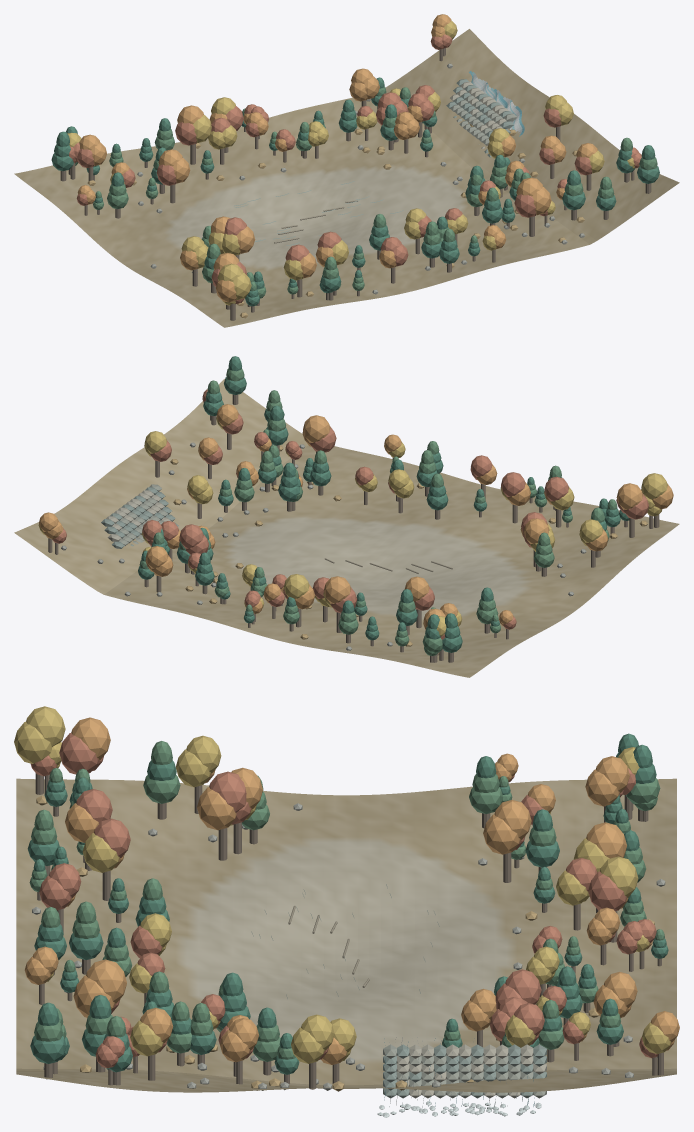
Rendered from jiuzhaigou-autumn.glb.
The picture shows the model from 3 angles, top to bottom: view 1: azimuth 30°, elevation 25°; view 2: azimuth 150°, elevation 25°; view 3: azimuth 270°, elevation 25°; orthographic projection. The views are drawn at different scales.
Visible parts, largest first — view 1: terrain, world; view 2: terrain, world; view 3: terrain, world.
Boxes of the visible parts, x1,y1,x2,y2 form: terrain: (14, 29, 679, 327); world: (51, 14, 659, 320); terrain: (14, 379, 679, 677); world: (38, 356, 673, 662); terrain: (16, 778, 676, 1092); world: (14, 706, 679, 1117).
Size of the model in its own units: 30 by 5.94 by 24.19.
